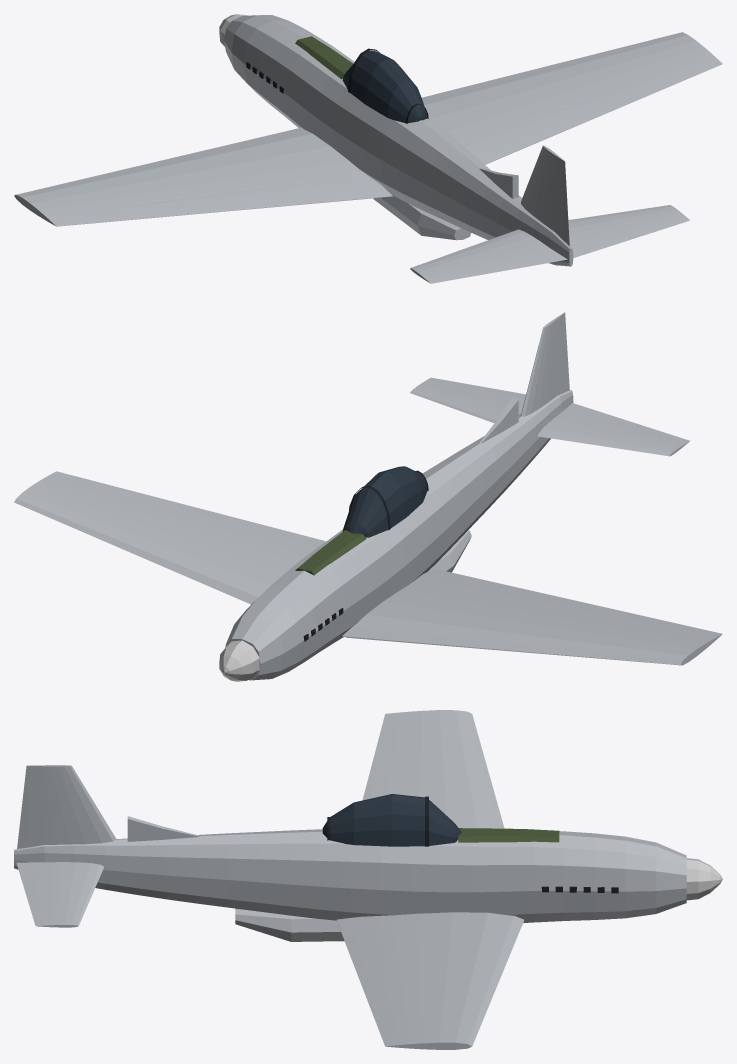
The picture shows the model from 3 angles, top to bottom: view 1: azimuth 30°, elevation 25°; view 2: azimuth 150°, elevation 25°; view 3: azimuth 270°, elevation 25°; orthographic projection. The views are drawn at different scales.
Visible parts, largest first — view 1: Fuselage, Wing L, Wing R, Cockpit Glass, Flap L, Flap R, Stabilizer L, Stabilizer R, Vertical Fin, Aileron R, Radiator Scoop, Elevator L (+5 smaller); view 2: Fuselage, Wing L, Wing R, Cockpit Glass, Stabilizer L, Flap L, Vertical Fin, Stabilizer R, Flap R, Spinner, Elevator L, Glare Panel (+6 smaller); view 3: Fuselage, Wing R, Wing L, Cockpit Glass, Vertical Fin, Stabilizer R, Flap R, Radiator Scoop, Rudder, Aileron L, Elevator R, Glare Panel (+3 smaller).
Part boxes in pixels (x1=…): Fuselage: x1=224, y1=15, x2=573, y2=266; Wing L: x1=14, y1=127, x2=392, y2=226; Wing R: x1=422, y1=32, x2=722, y2=145; Cockpit Glass: x1=342, y1=50, x2=427, y2=123; Flap L: x1=193, y1=177, x2=372, y2=212; Flap R: x1=464, y1=104, x2=592, y2=164; Stabilizer L: x1=410, y1=229, x2=548, y2=278; Stabilizer R: x1=568, y1=205, x2=682, y2=241; Vertical Fin: x1=521, y1=145, x2=557, y2=227; Aileron R: x1=599, y1=60, x2=708, y2=110; Radiator Scoop: x1=373, y1=195, x2=470, y2=240; Elevator L: x1=423, y1=247, x2=567, y2=283; Fuselage: x1=225, y1=390, x2=573, y2=680; Wing L: x1=342, y1=568, x2=722, y2=665; Wing R: x1=14, y1=471, x2=310, y2=604; Cockpit Glass: x1=342, y1=466, x2=427, y2=537; Stabilizer L: x1=538, y1=412, x2=683, y2=456; Flap L: x1=430, y1=572, x2=592, y2=612; Vertical Fin: x1=520, y1=318, x2=557, y2=416; Stabilizer R: x1=410, y1=382, x2=523, y2=423; Flap R: x1=193, y1=510, x2=325, y2=552; Spinner: x1=219, y1=640, x2=259, y2=681; Elevator L: x1=562, y1=403, x2=689, y2=446; Glare Panel: x1=295, y1=530, x2=366, y2=575; Fuselage: x1=14, y1=829, x2=686, y2=922; Wing R: x1=336, y1=912, x2=524, y2=1049; Wing L: x1=363, y1=710, x2=504, y2=828; Cockpit Glass: x1=322, y1=794, x2=461, y2=846; Vertical Fin: x1=43, y1=765, x2=116, y2=844; Stabilizer R: x1=47, y1=862, x2=103, y2=927; Flap R: x1=339, y1=922, x2=394, y2=989; Radiator Scoop: x1=235, y1=908, x2=344, y2=941; Rudder: x1=17, y1=765, x2=53, y2=848; Aileron L: x1=367, y1=721, x2=404, y2=784; Elevator R: x1=16, y1=862, x2=50, y2=927; Glare Panel: x1=458, y1=828, x2=559, y2=842.
Size of the model in its own units: 11.3 by 2.73 by 10.18.
